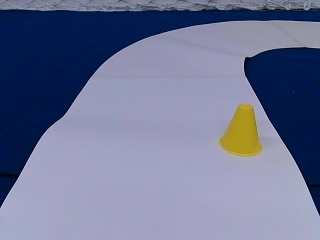cone: (220, 105, 262, 155)
